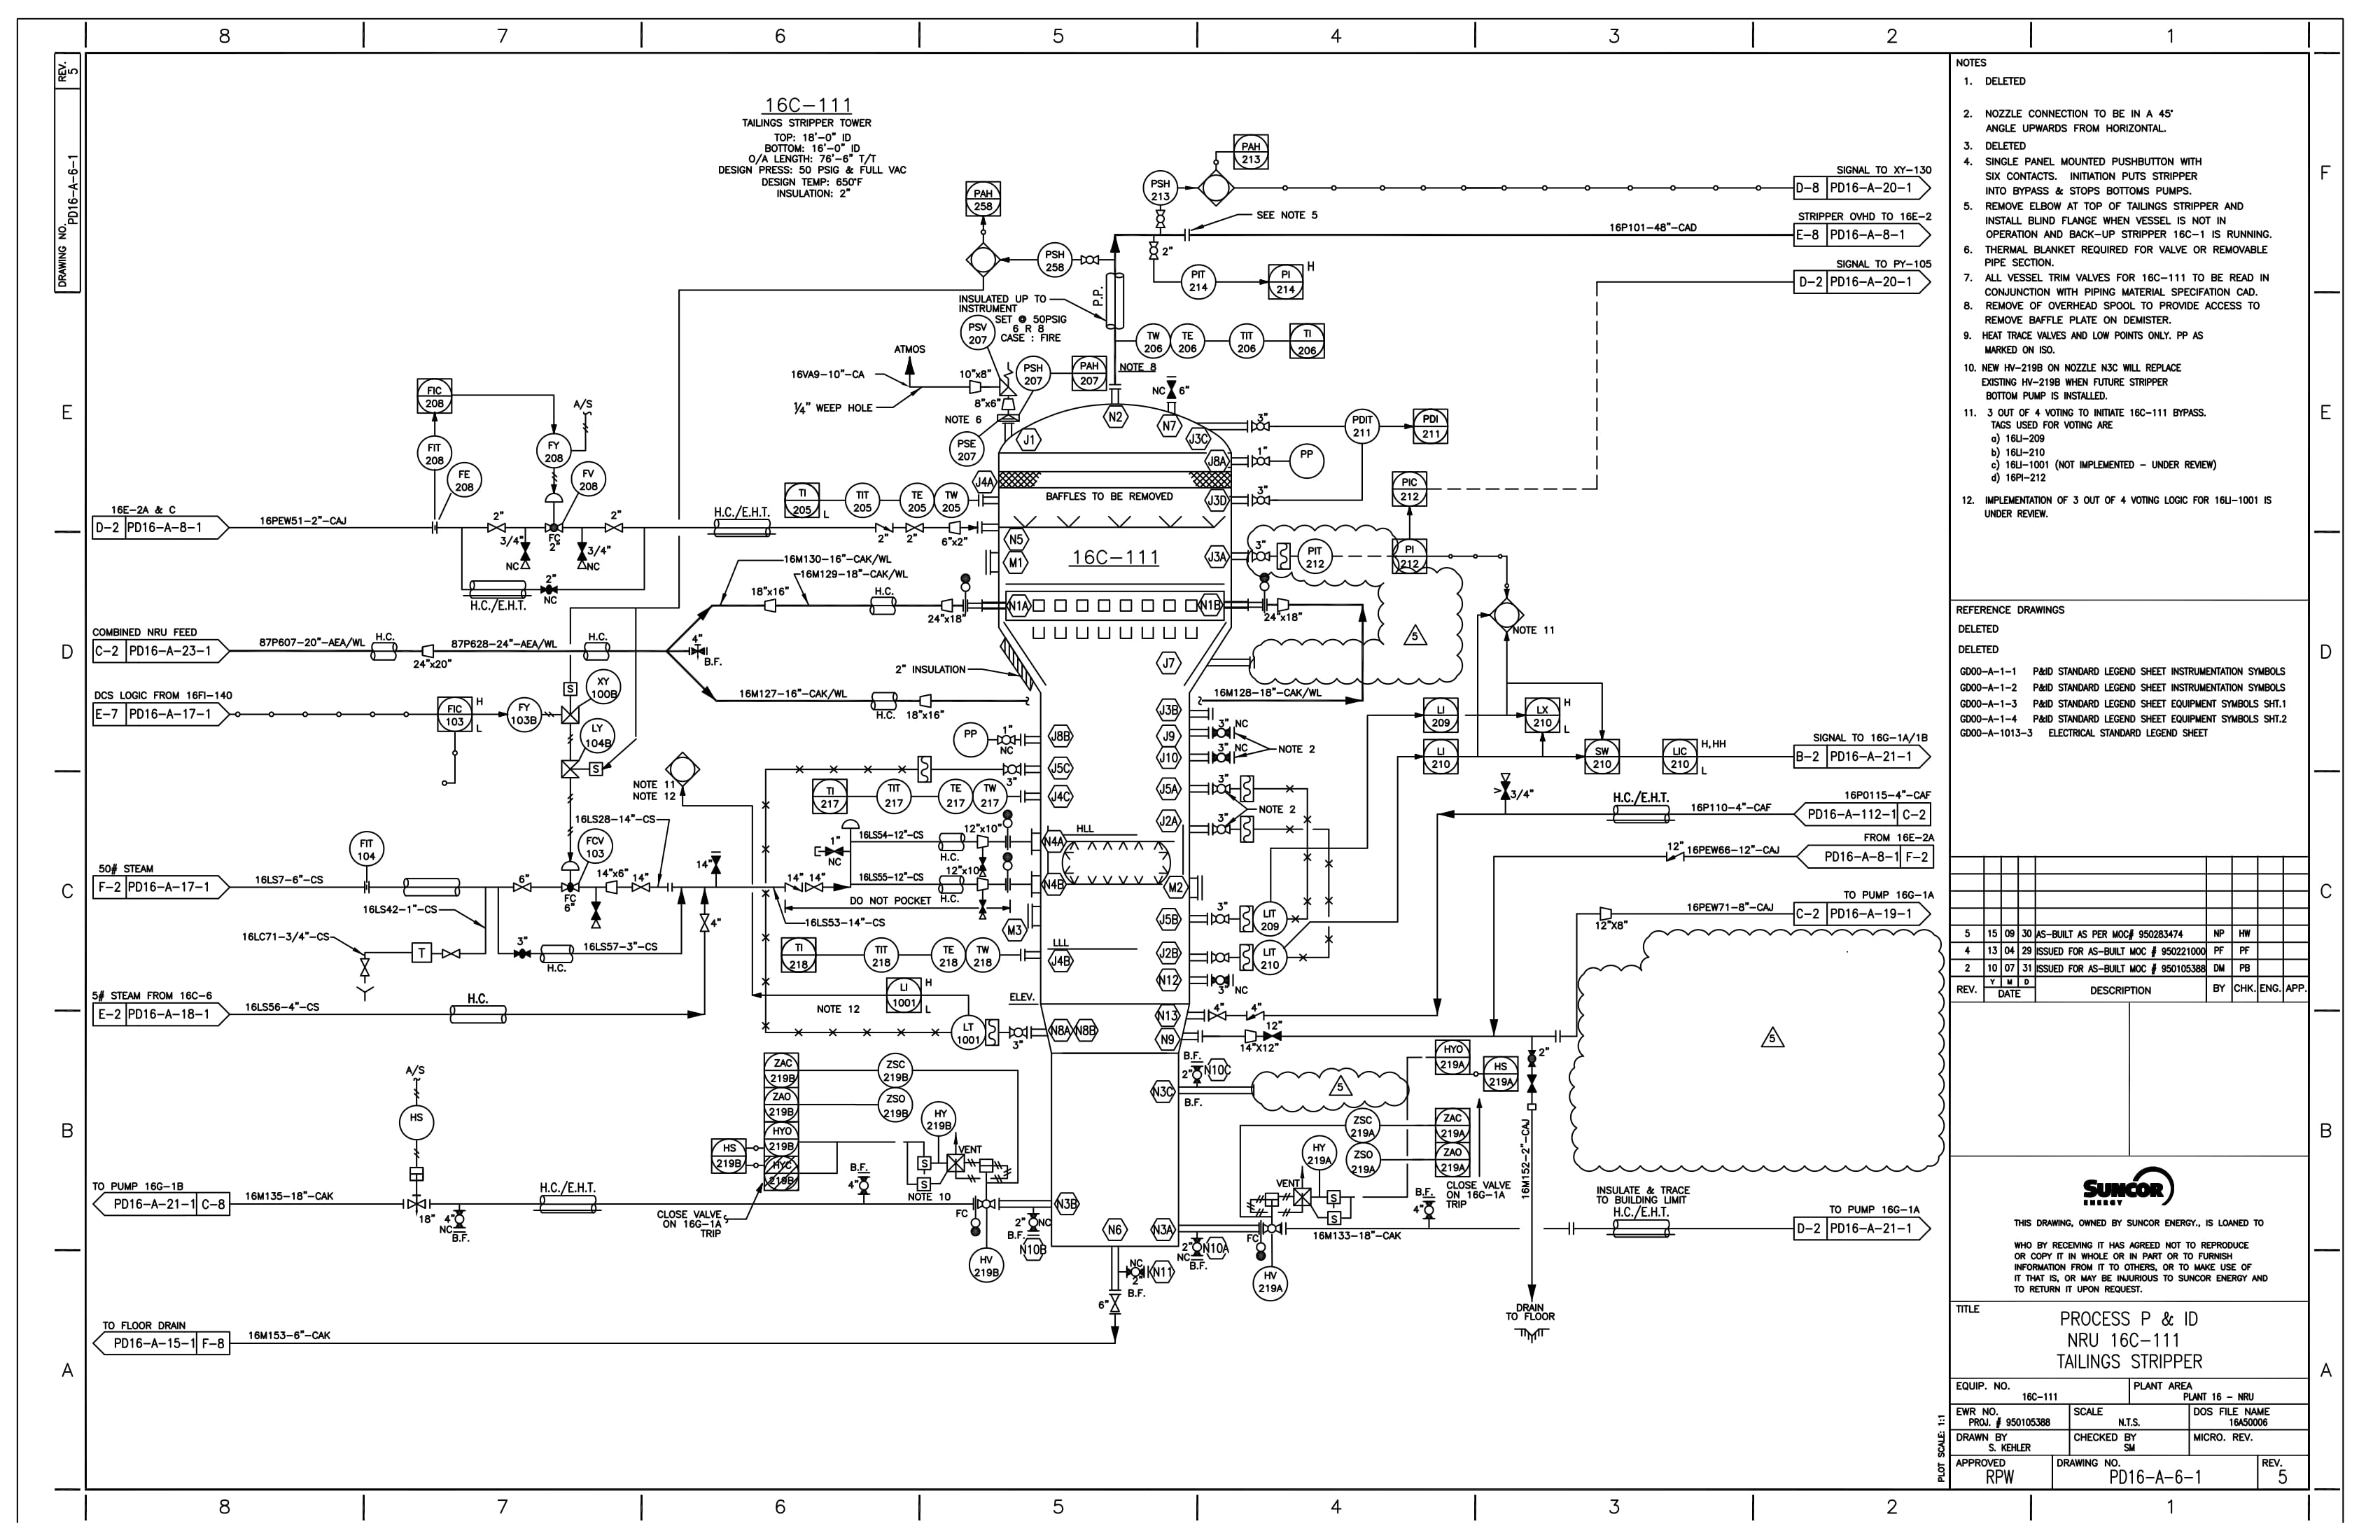Inline Instrument: (347, 820, 389, 876), (572, 825, 624, 869), (961, 1247, 1013, 1290), (1339, 1141, 1393, 1183), (867, 1049, 919, 1091), (446, 458, 489, 506), (578, 716, 623, 761), (505, 694, 548, 741), (569, 461, 616, 503), (964, 933, 1006, 980), (1299, 1129, 1343, 1172), (876, 775, 918, 820), (928, 931, 966, 980), (397, 435, 456, 467), (859, 935, 902, 976), (531, 430, 572, 472), (583, 666, 624, 708), (921, 1098, 961, 1141), (838, 484, 883, 522), (938, 775, 977, 819), (873, 1087, 919, 1122), (1252, 1266, 1292, 1306), (1348, 1106, 1384, 1146)
Panel Instrument: (1655, 730, 1726, 786), (742, 1079, 819, 1127), (1381, 467, 1440, 525), (1402, 401, 1466, 454), (1259, 253, 1320, 309), (1518, 694, 1582, 744), (961, 175, 1017, 229), (758, 1042, 810, 1094), (1428, 1098, 1478, 1148), (1284, 319, 1336, 368), (1416, 735, 1468, 780), (1580, 732, 1627, 780), (1228, 132, 1280, 175), (1431, 1143, 1483, 1186), (1435, 1035, 1478, 1080), (1419, 692, 1462, 735)
